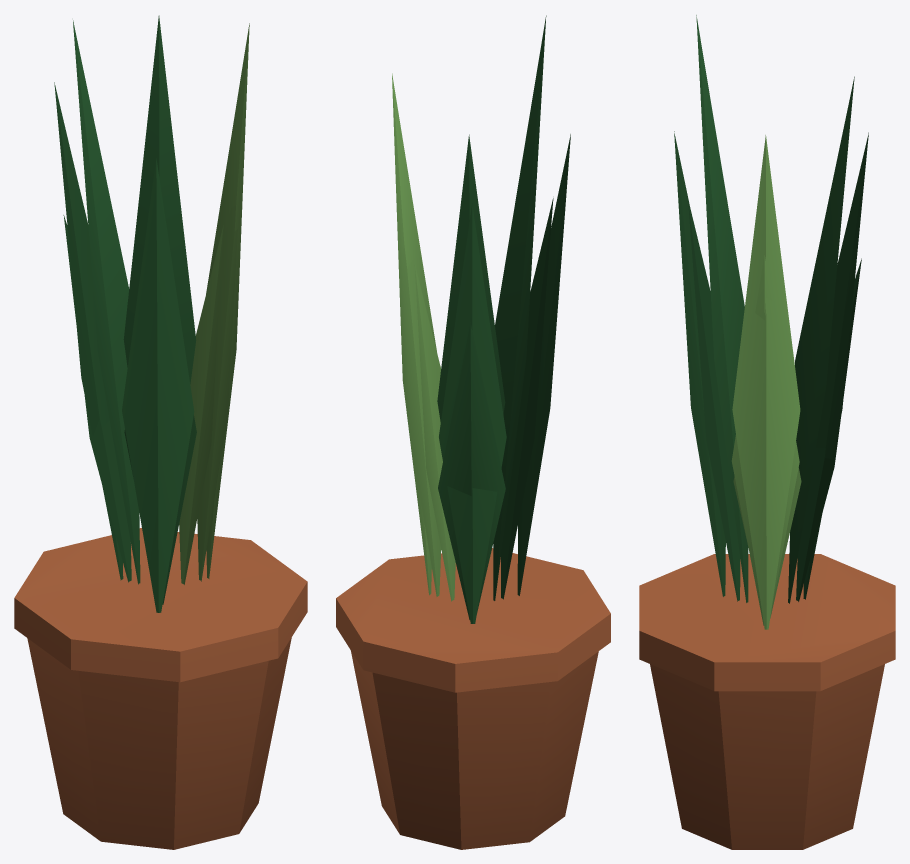
Rendered from plant_snake_01.glb.
The picture shows the model from 3 angles, left to right: view 1: azimuth 30°, elevation 25°; view 2: azimuth 150°, elevation 25°; view 3: azimuth 270°, elevation 25°; orthographic projection. The views are drawn at different scales.
Parts seen in each view (by area): view 1: plant_snake_01_mesh; view 2: plant_snake_01_mesh; view 3: plant_snake_01_mesh.
Part boxes in pixels (left/top/right/bottom): plant_snake_01_mesh: left=14, top=15, right=307, bottom=849; plant_snake_01_mesh: left=336, top=15, right=610, bottom=849; plant_snake_01_mesh: left=639, top=15, right=895, bottom=849.
Bounding box in the file's own units: 0.3392 × 1.14 × 0.3392.
1 material, 1 textured.
